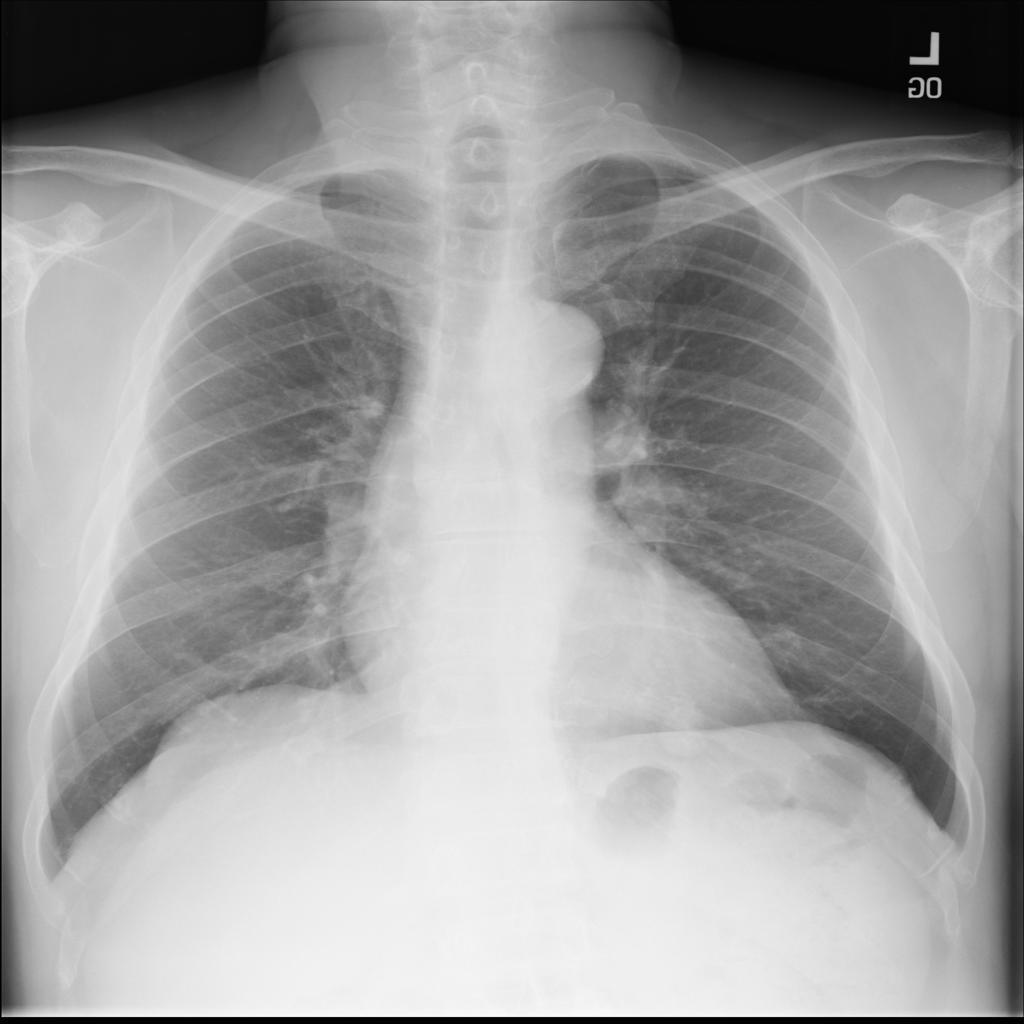nodule: (644, 690, 725, 758)
